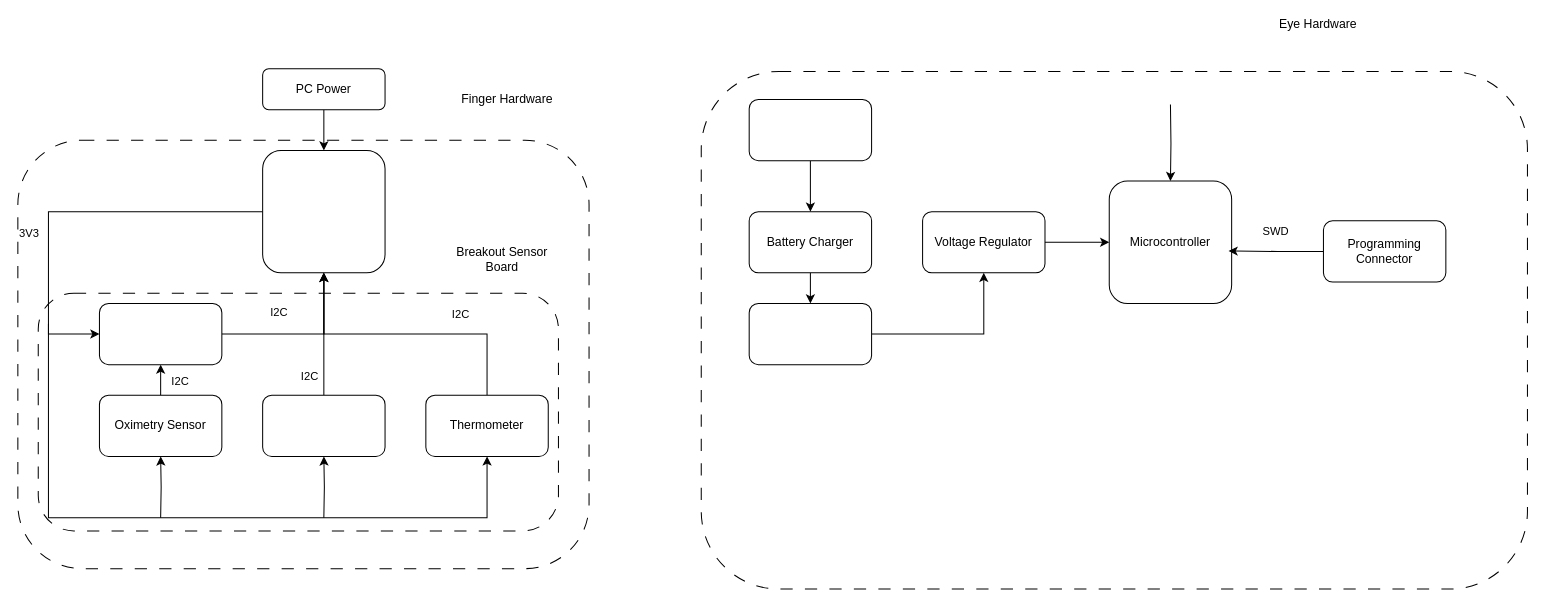
This 1545x608 diagram has some shape labels left out. The centre of each missing label's shape, as x and y in pixels:
Accelerometer: the point at 323,425
Battery: the point at 810,333
Biometric Sensor Hub: the point at 160,333
Charger Connector / Port: the point at 810,129
Microcontroller Dev Board: the point at 323,211
